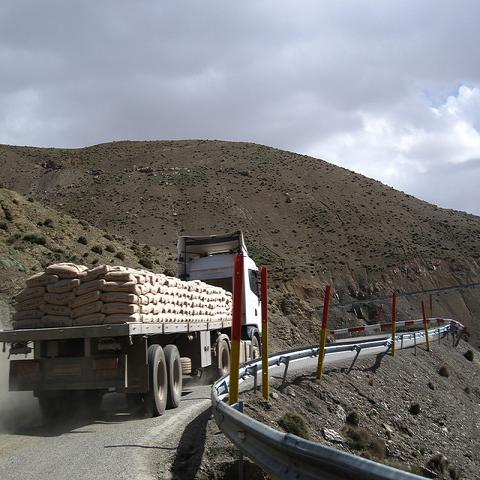truck: (4, 230, 263, 420)
